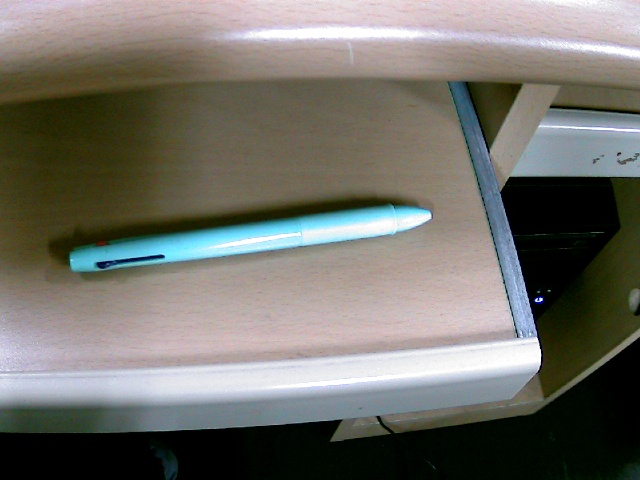pen: (31, 92, 489, 334)
